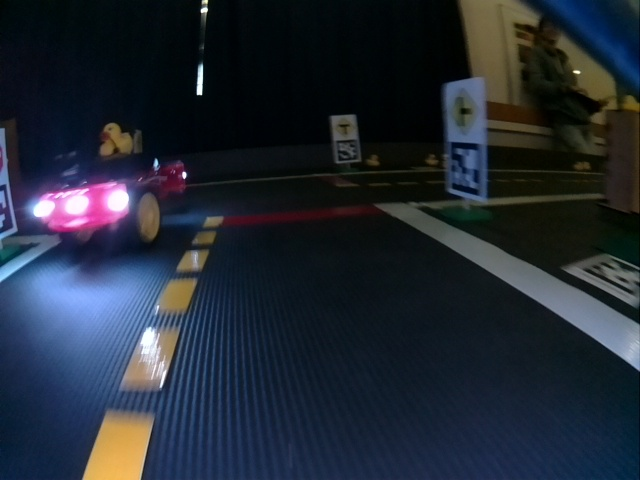Duckie: (100, 123, 135, 157), (370, 154, 380, 163), (426, 154, 436, 163), (574, 160, 583, 169)
Duckiebot: (34, 160, 184, 248)
Intersection sign: (449, 88, 482, 134), (334, 117, 354, 138)
QR code: (562, 254, 639, 304), (448, 145, 480, 198), (336, 140, 358, 161)
